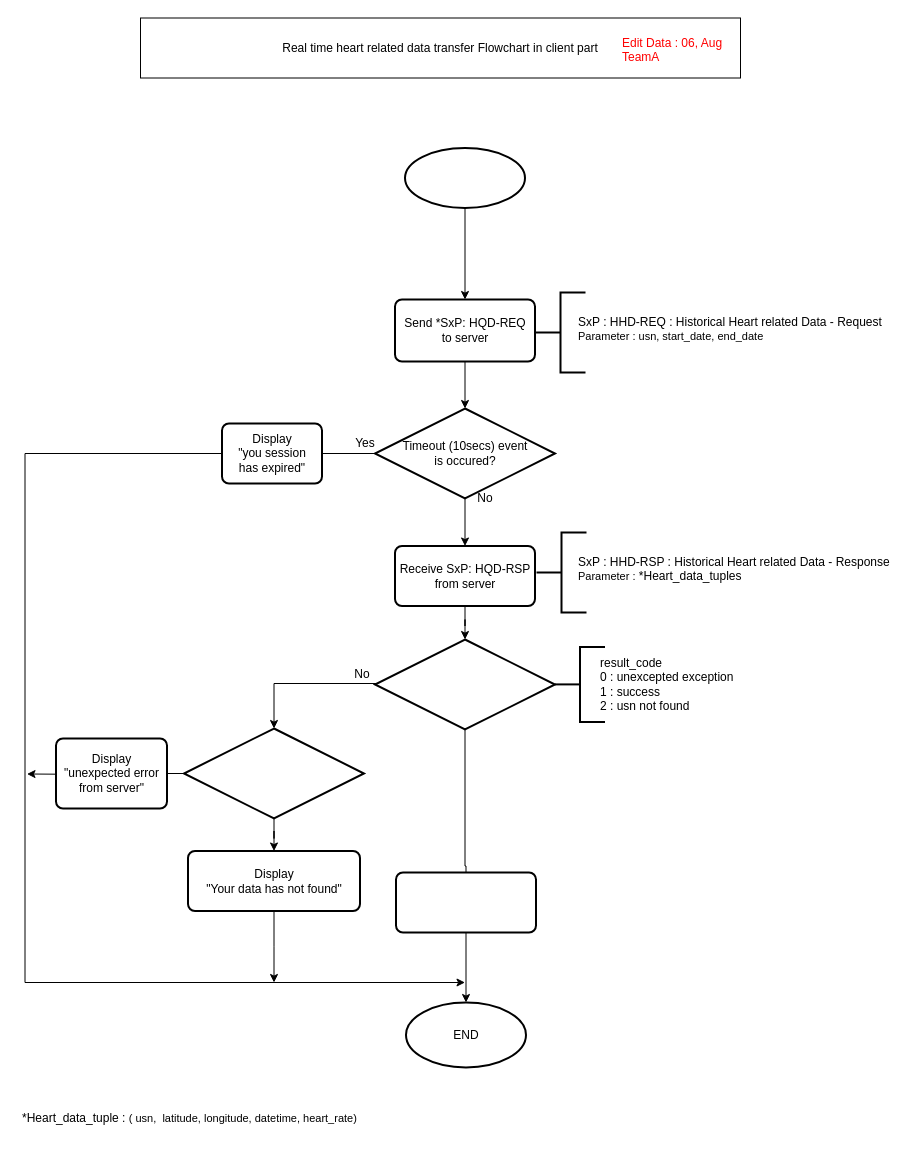
Image size: 923x1157. Some labels were removed from this diagram. The box of each missing label's shape, as (x1, y1, x2, y2) in pixels:
Display Historical Heart related data: (394, 871, 536, 933)
result_code == 1?: (374, 638, 556, 730)
result_code == 2?: (182, 727, 364, 819)
START: (404, 146, 526, 208)
